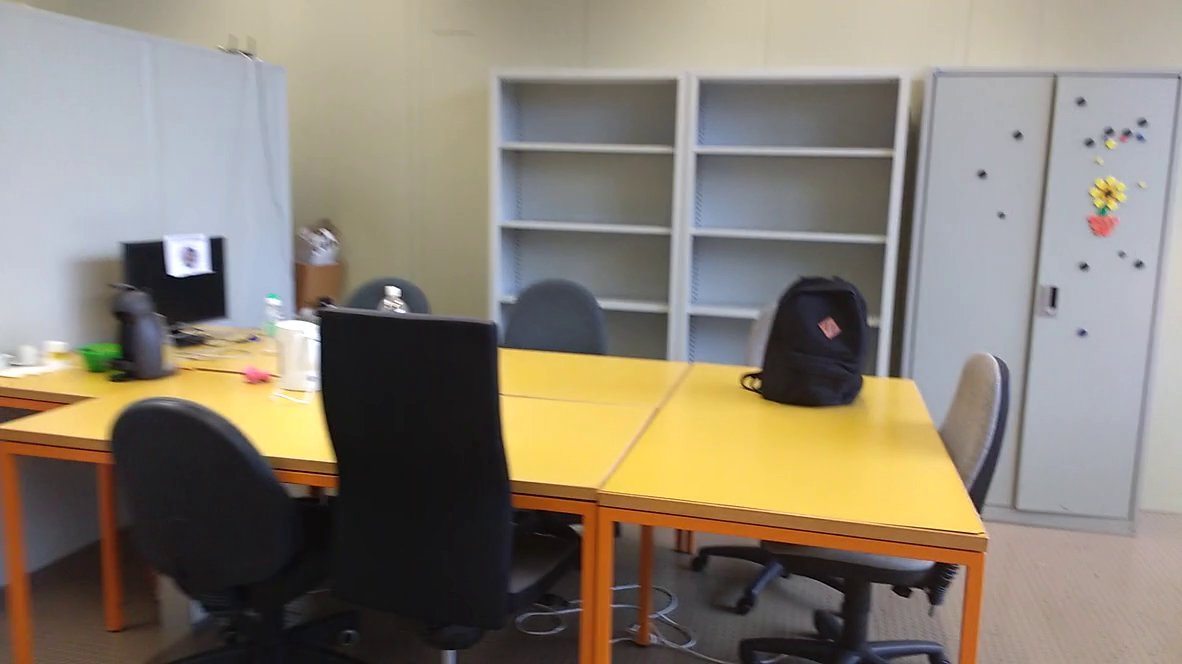bag: (740, 268, 872, 427)
chair: (313, 288, 596, 664), (747, 330, 1031, 664), (51, 368, 369, 664), (488, 270, 634, 382)
